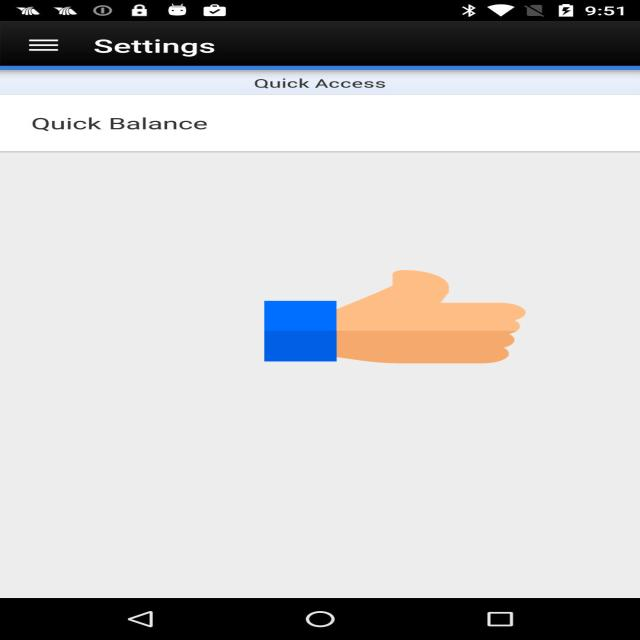privacy zuckering: (264, 268, 526, 366)
